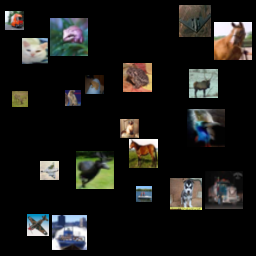airplane: (179, 5, 211, 37), (27, 214, 49, 236), (40, 161, 59, 180)
bird: (187, 109, 225, 147)
cat: (22, 38, 48, 64), (120, 119, 139, 138), (65, 90, 81, 106)
deer: (76, 151, 114, 189), (189, 69, 218, 98), (12, 91, 28, 107)
dog: (170, 178, 202, 210)
frog: (50, 18, 88, 56), (123, 63, 152, 92), (85, 75, 104, 94)
ship: (52, 215, 87, 250), (136, 186, 152, 202)
